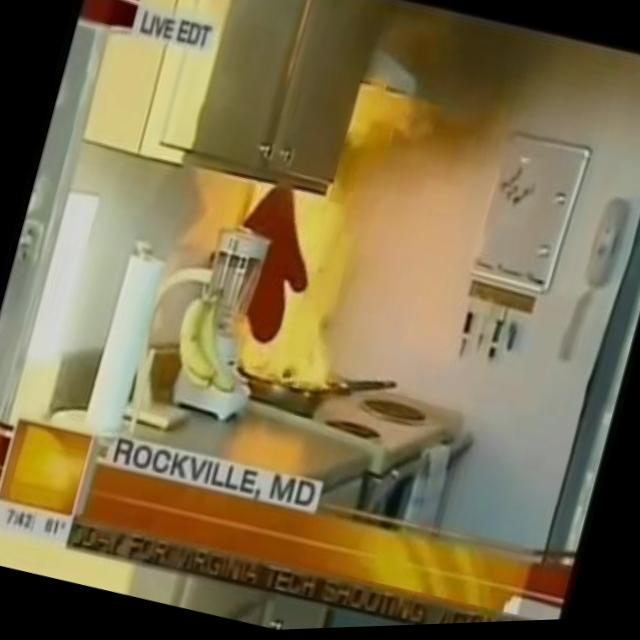fire: (245, 191, 375, 409)
